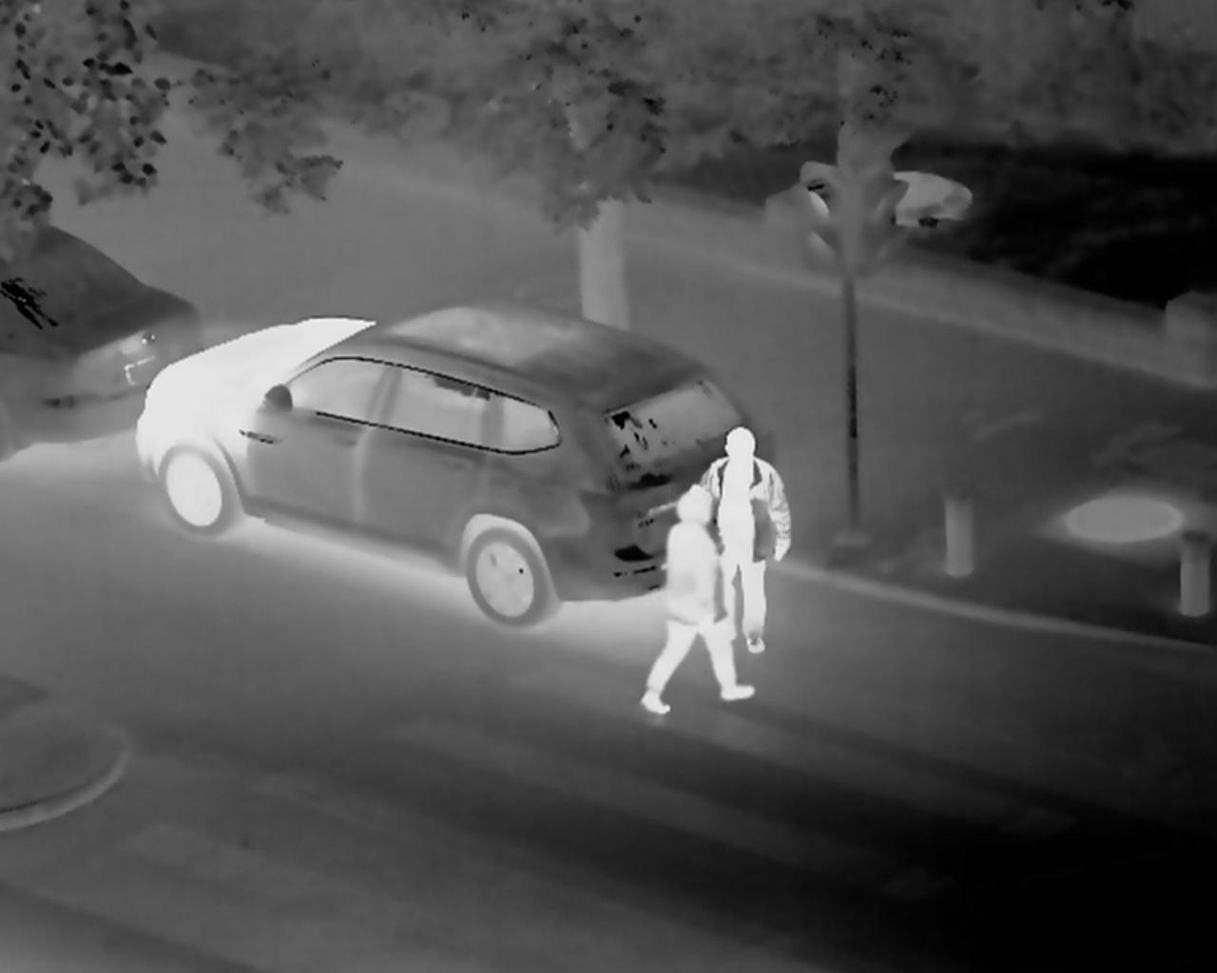person: (636, 487, 754, 717), (686, 424, 794, 655)
